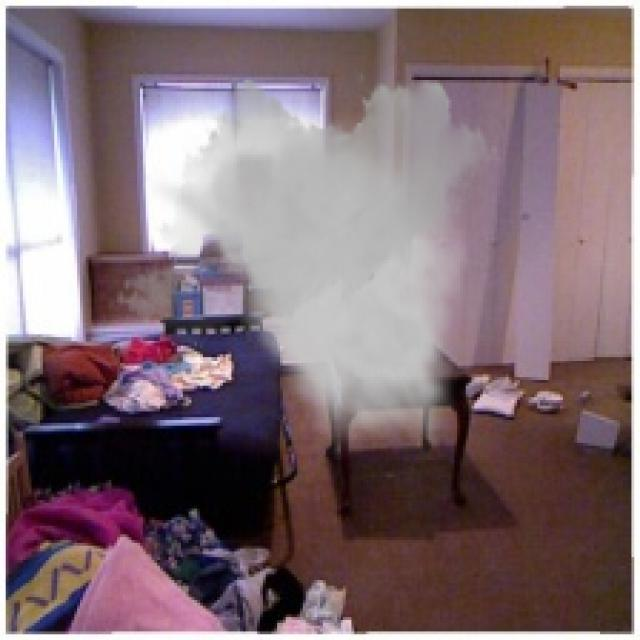smoke: (114, 69, 500, 460)
